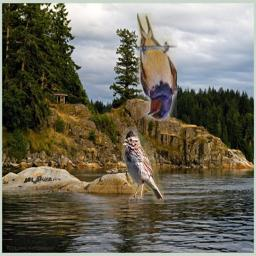Sparrow: (121, 127, 164, 204)
Swallow: (137, 13, 177, 121)
